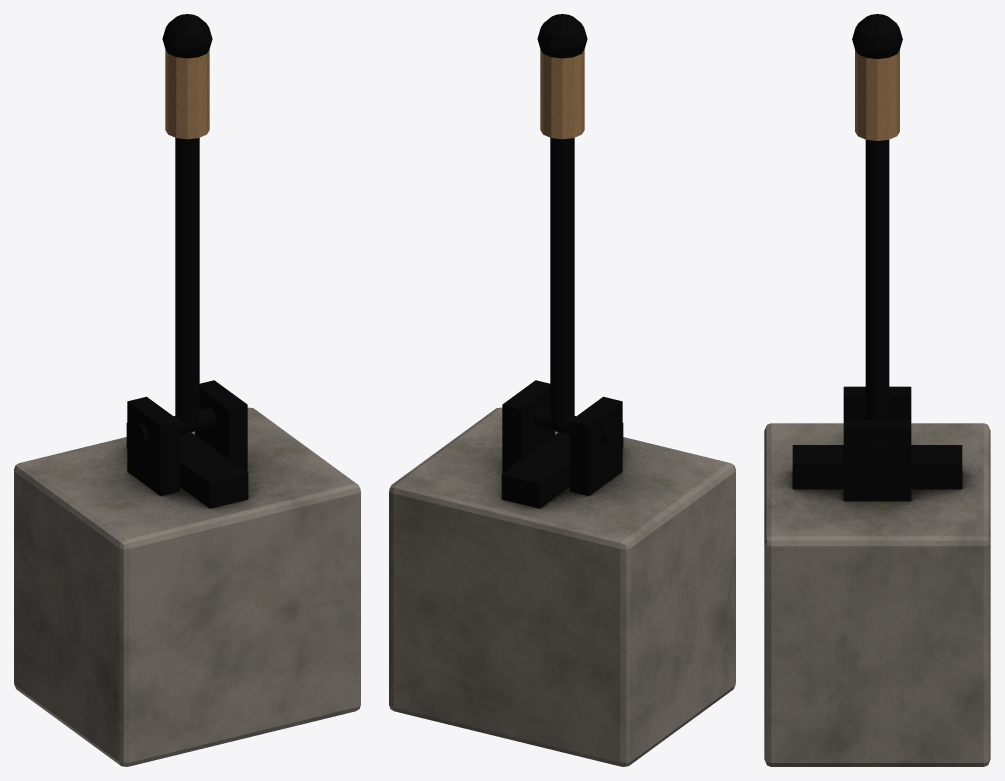
Rendered from puzzle_alavanca.glb.
The picture shows the model from 3 angles, left to right: view 1: azimuth 30°, elevation 25°; view 2: azimuth 150°, elevation 25°; view 3: azimuth 270°, elevation 25°; orthographic projection.
Parts seen in each view (by area): view 1: puzzle_alavanca; view 2: puzzle_alavanca; view 3: puzzle_alavanca.
Boxes of the visible parts, x1=… form: puzzle_alavanca: x1=14, y1=14, x2=360, y2=766; puzzle_alavanca: x1=389, y1=14, x2=735, y2=766; puzzle_alavanca: x1=764, y1=14, x2=990, y2=766.
Bounding box in the file's own units: 0.5 × 1.35 × 0.4.
1 material, 1 textured.
